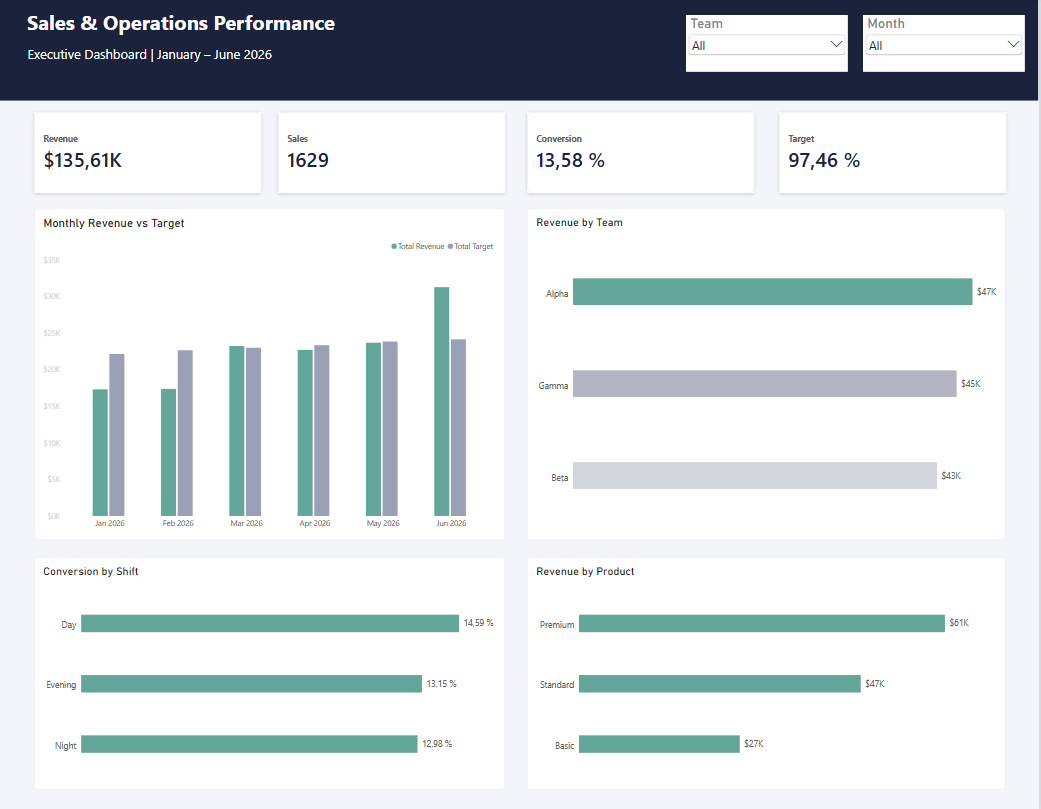

This screenshot's page, from the dashboard's own definition file:
{"tool":"powerbi","page":{"name":"Executive Overview","canvas":[1920,1500],"ordinal":0},"visuals":[{"type":"shape","box":[0,0,1920,190],"z":0},{"type":"textbox","box":[0,0,1920,170],"z":1000},{"type":"cardVisual","fields":{"Data":["public sales_interactions.Total Revenue"]},"box":[64.9,211.5,420,150],"z":2000},{"type":"cardVisual","fields":{"Data":["public sales_interactions.Total Sales"]},"box":[515.1,211.5,420,150],"z":3000},{"type":"cardVisual","fields":{"Data":["public sales_interactions.Conversion Rate"]},"box":[975.7,211.5,420,150],"z":4000},{"type":"cardVisual","fields":{"Data":["public sales_targets.Target Achievement %"]},"box":[1440.5,211.5,420,150],"z":5000},{"type":"clusteredColumnChart","title":"Monthly Revenue vs Target","fields":{"Category":["Months.MonthLabel"],"Y":["public sales_interactions.Total Revenue","public sales_targets.Total Target"]},"box":[64,388,870,614],"z":6000},{"type":"clusteredBarChart","title":"Revenue by Team","fields":{"Category":["public agents.team"],"Y":["public sales_interactions.Total Revenue"]},"box":[976,388,884,614],"z":7000},{"type":"clusteredBarChart","title":"Conversion by Shift","fields":{"Category":["public agents.shift"],"Y":["public sales_interactions.Conversion Rate"]},"box":[64,1032,870,430],"z":8000},{"type":"clusteredBarChart","title":"Revenue by Product","fields":{"Category":["public sales_interactions.product"],"Y":["public sales_interactions.Total Revenue"]},"box":[976,1032,884,430],"z":9000},{"type":"slicer","fields":{"Values":["Months.MonthLabel"]},"box":[1596.1,31.4,299.3,105.3],"z":10000},{"type":"slicer","fields":{"Values":["public agents.team"]},"box":[1269.1,31.4,299.3,105.3],"z":10001}]}

Visuals, with their boxes in screenshot pixels (x1, y1, x2, y2), scaled from the page's 1920x1500 canvas onto the 1041x809 screenshot:
shape: rect(0, 0, 1040, 102)
textbox: rect(0, 0, 1040, 92)
cardVisual - public sales_interactions.Total Revenue: rect(35, 114, 263, 195)
cardVisual - public sales_interactions.Total Sales: rect(279, 114, 507, 195)
cardVisual - public sales_interactions.Conversion Rate: rect(529, 114, 757, 195)
cardVisual - public sales_targets.Target Achievement %: rect(781, 114, 1009, 195)
"Monthly Revenue vs Target" clusteredColumnChart: rect(35, 209, 506, 540)
"Revenue by Team" clusteredBarChart: rect(529, 209, 1008, 540)
"Conversion by Shift" clusteredBarChart: rect(35, 557, 506, 789)
"Revenue by Product" clusteredBarChart: rect(529, 557, 1008, 789)
slicer - Months.MonthLabel: rect(865, 17, 1028, 74)
slicer - public agents.team: rect(688, 17, 850, 74)
